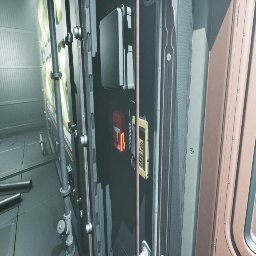EmergencyPhone ,: (128, 100, 150, 180)
FireAlarm ,: (113, 110, 125, 152)
